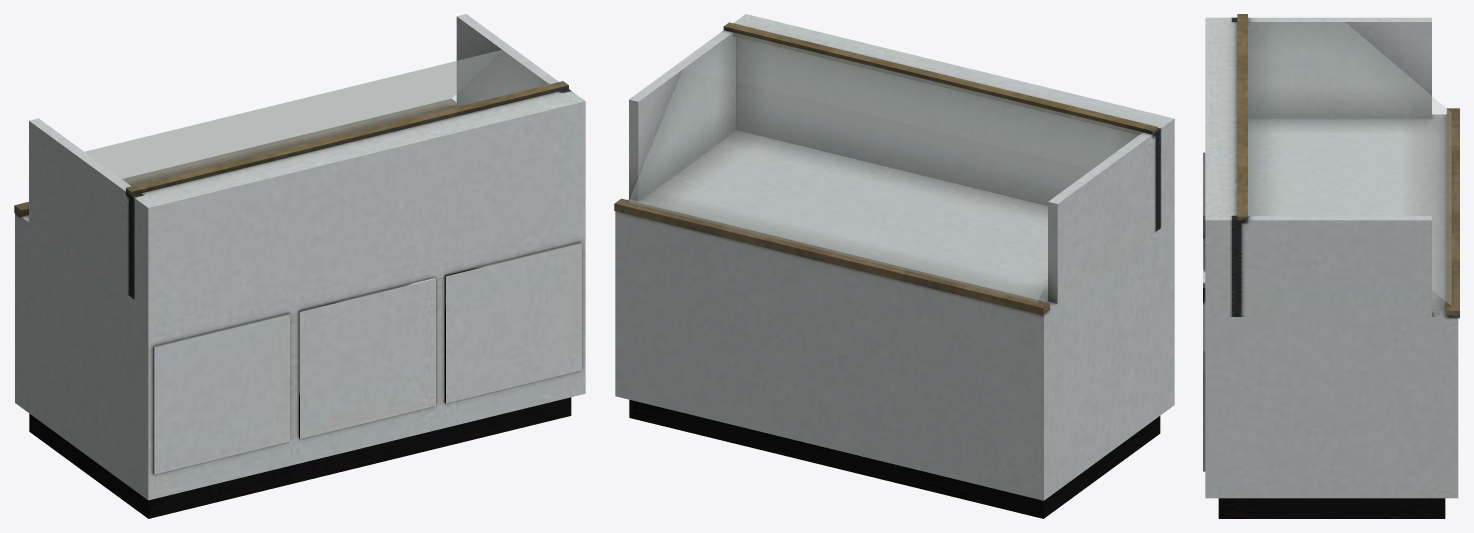
The model's file is fridge_counter_lod1_web.glb.
3 views of the same model, side by side, from view 1: azimuth 30°, elevation 25°; view 2: azimuth 150°, elevation 25°; view 3: azimuth 270°, elevation 25° (orthographic). The views are drawn at different scales.
Visible parts, largest first — view 1: FridgeCounter_Body, Glass_Top, Glass_Front; view 2: FridgeCounter_Body, Glass_Front, Glass_Top; view 3: FridgeCounter_Body, Glass_Top, Glass_Front.
Part boxes in pixels (<box>): FridgeCounter_Body: <box>14,14,585,518</box>; Glass_Top: <box>85,50,548,185</box>; Glass_Front: <box>86,50,501,181</box>; FridgeCounter_Body: <box>614,14,1174,518</box>; Glass_Front: <box>628,69,1091,302</box>; Glass_Top: <box>684,32,1141,168</box>; FridgeCounter_Body: <box>1203,14,1459,518</box>; Glass_Top: <box>1248,22,1344,215</box>; Glass_Front: <box>1345,23,1451,305</box>.
Size of the model in its own units: 1.8 by 1.27 by 0.963.
2 materials, 1 textured.
